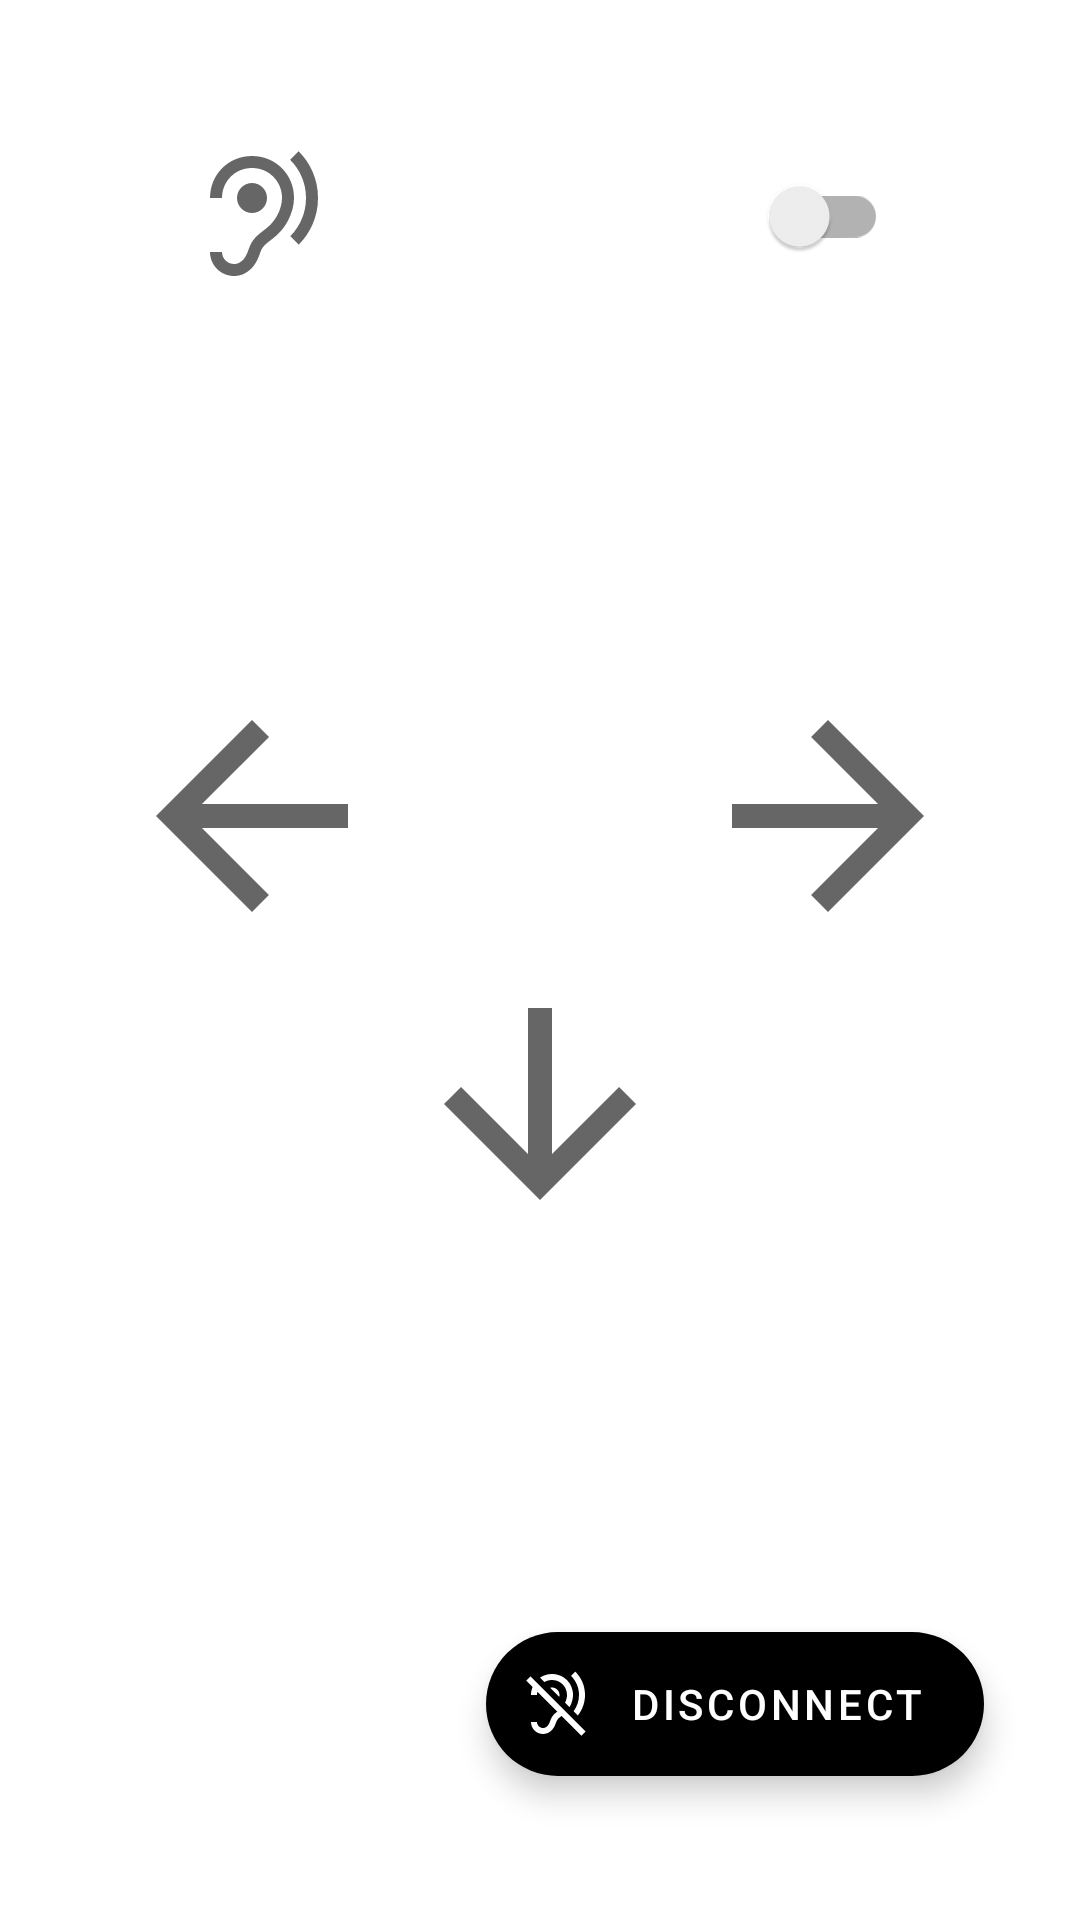

Screen size 1080×1920. Icon name, then its center in pixels as (x=x, y=y):
arrow back: (x=252, y=816)
arrow downward: (x=540, y=1104)
arrow forward: (x=828, y=816)
